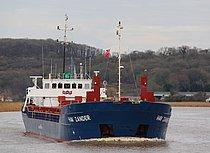Ship: (17, 15, 176, 146)
